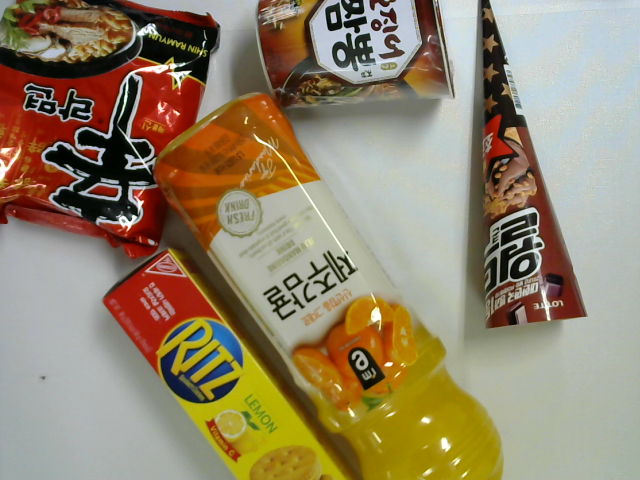GooGoo_Cone_CVS: (472, 1, 588, 331)
Jeju_Tangerine_1.5L: (153, 91, 506, 480)
Ojjam: (250, 1, 456, 108)
Ritz_Remon_96g: (102, 254, 355, 480)
Sinramen: (1, 1, 227, 263)
